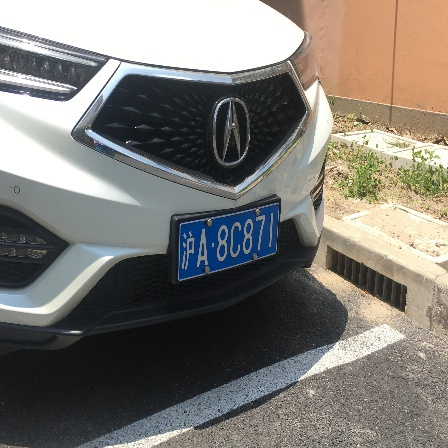plate: (174, 201, 287, 286)
